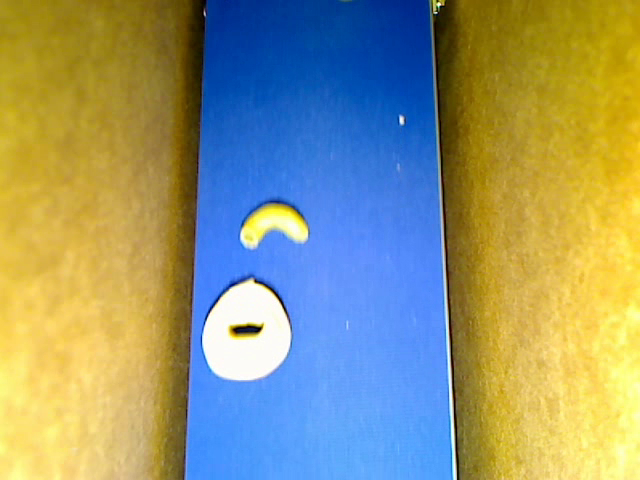elbow: (238, 201, 309, 249)
tortellini: (202, 277, 293, 383)
